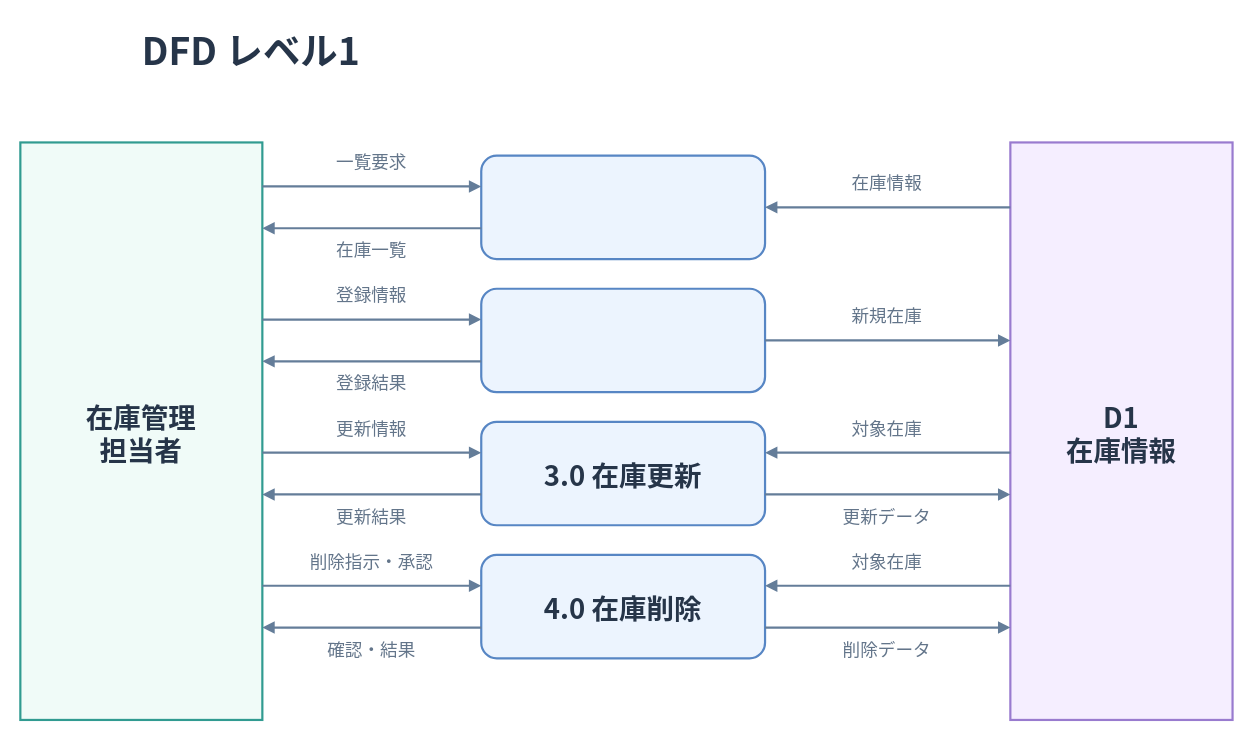
Image size: 1252x739. Some labels were removed from this diagram. Each missing label, with the box of its shape:
1.0 在庫一覧: (480, 154, 766, 260)
2.0 在庫登録: (480, 287, 766, 393)
